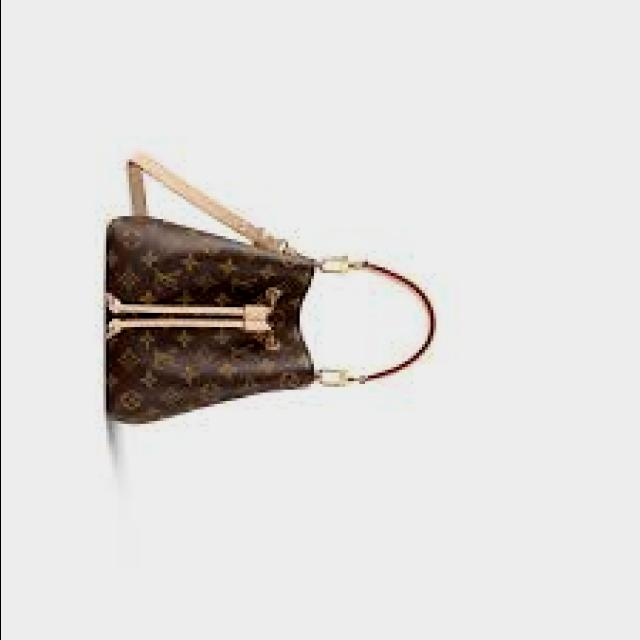backpack: (106, 155, 439, 425)
